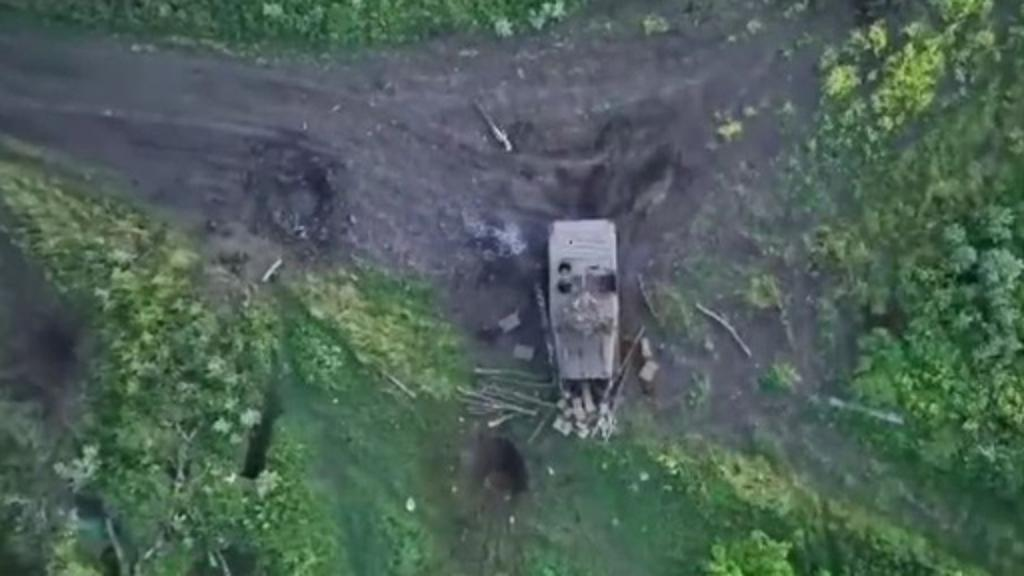APC-IFV: (532, 202, 622, 388)
